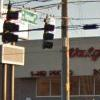Traffic light: (5, 7, 65, 52)
